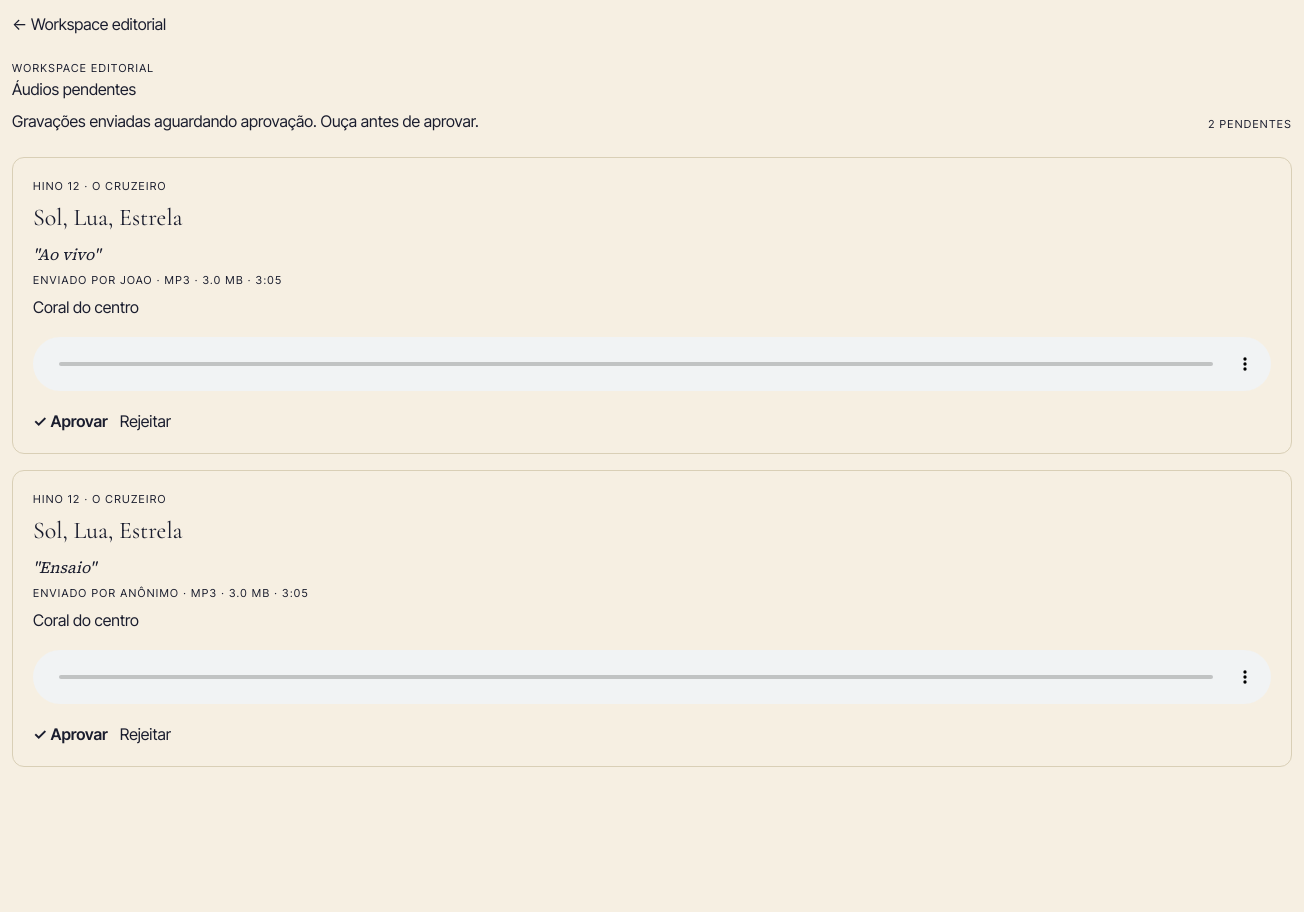
it: /editor/audios/pendentes — aprovar (5D.15) › mantém o item fora da fila quando o servidor confirma
Click the button with test id "approve-a1": (70,420) [33, 408, 108, 432]
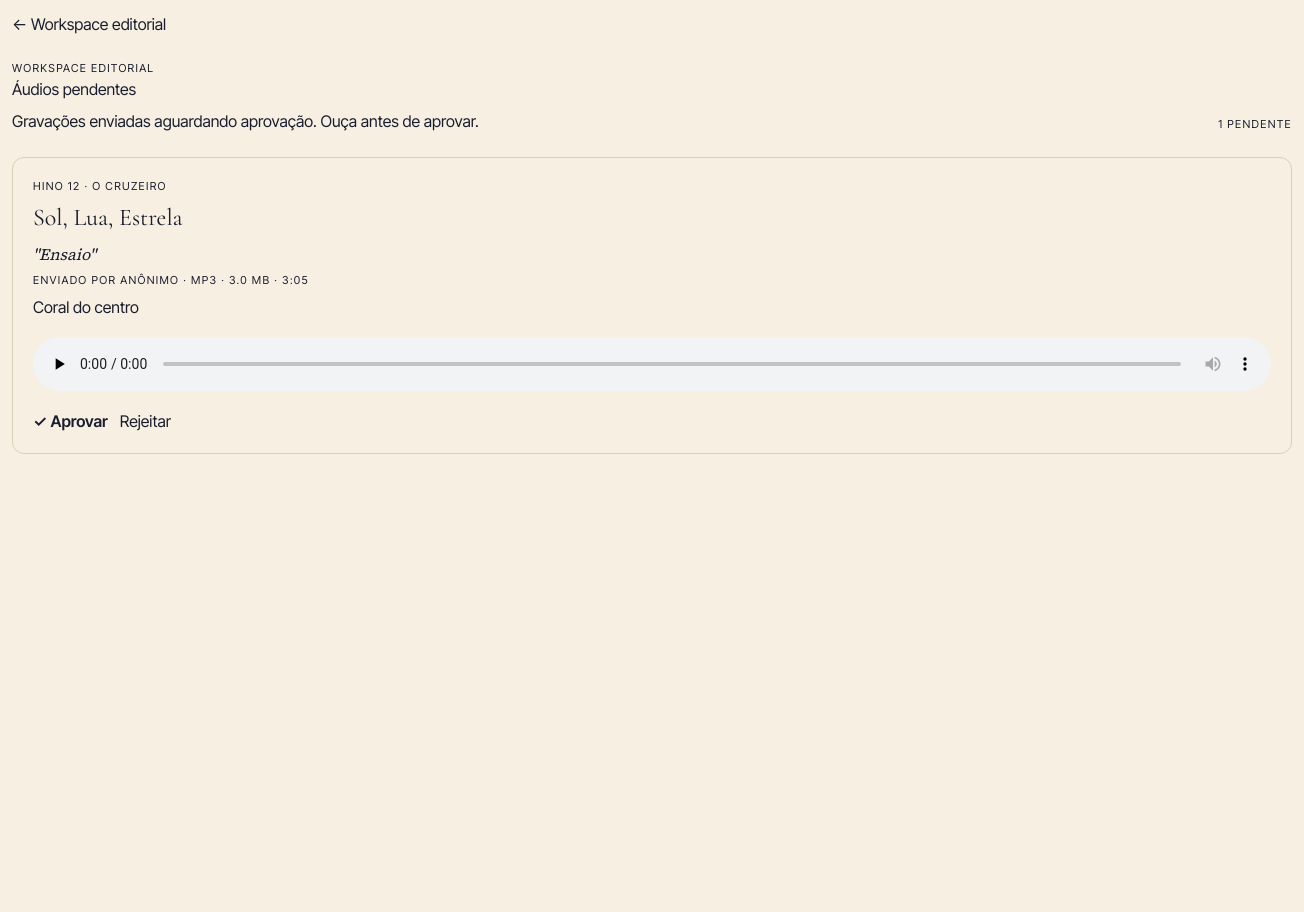
Check: the number of list items with test id "pending-audio-item" is 1, box [12, 156, 1292, 454]
